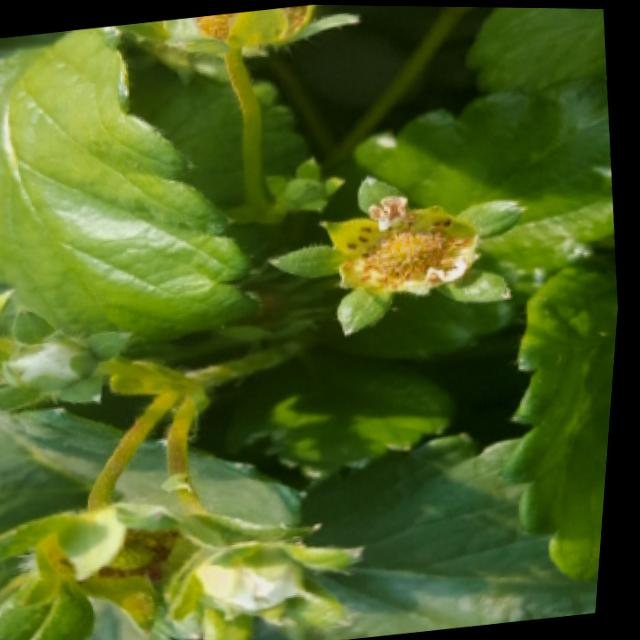Blossom Blight: (344, 193, 484, 293)
